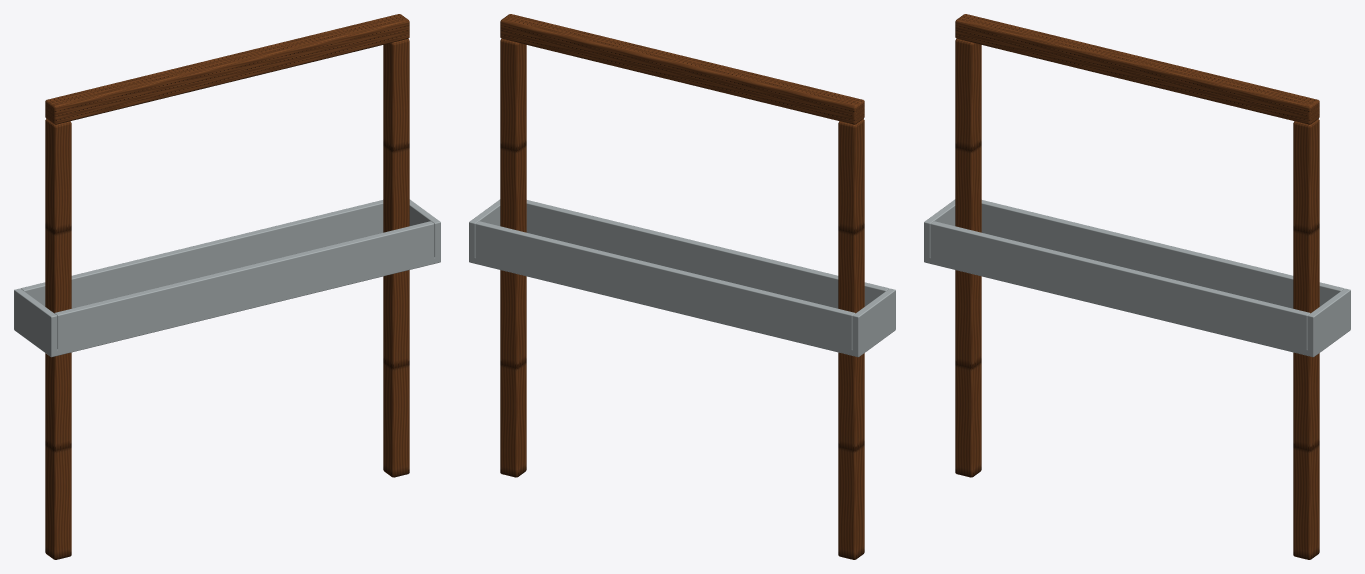
File: survival-greenhouse-and-irrigation-hanging-grow-gutter-1e680c4f__21312.glb
The picture shows the model from 3 angles, left to right: view 1: azimuth 30°, elevation 25°; view 2: azimuth 150°, elevation 25°; view 3: azimuth 330°, elevation 25°; orthographic projection.
Parts seen in each view (by area): view 1: hanging-grow-gutter; view 2: hanging-grow-gutter; view 3: hanging-grow-gutter.
Boxes of the visible parts, <box> form: hanging-grow-gutter: <box>14,14,440,559</box>; hanging-grow-gutter: <box>469,14,895,559</box>; hanging-grow-gutter: <box>924,14,1350,559</box>.
Size of the model in its own units: 1.5 by 1.67 by 0.2499.
Materials: 3 (1 with a texture image).
